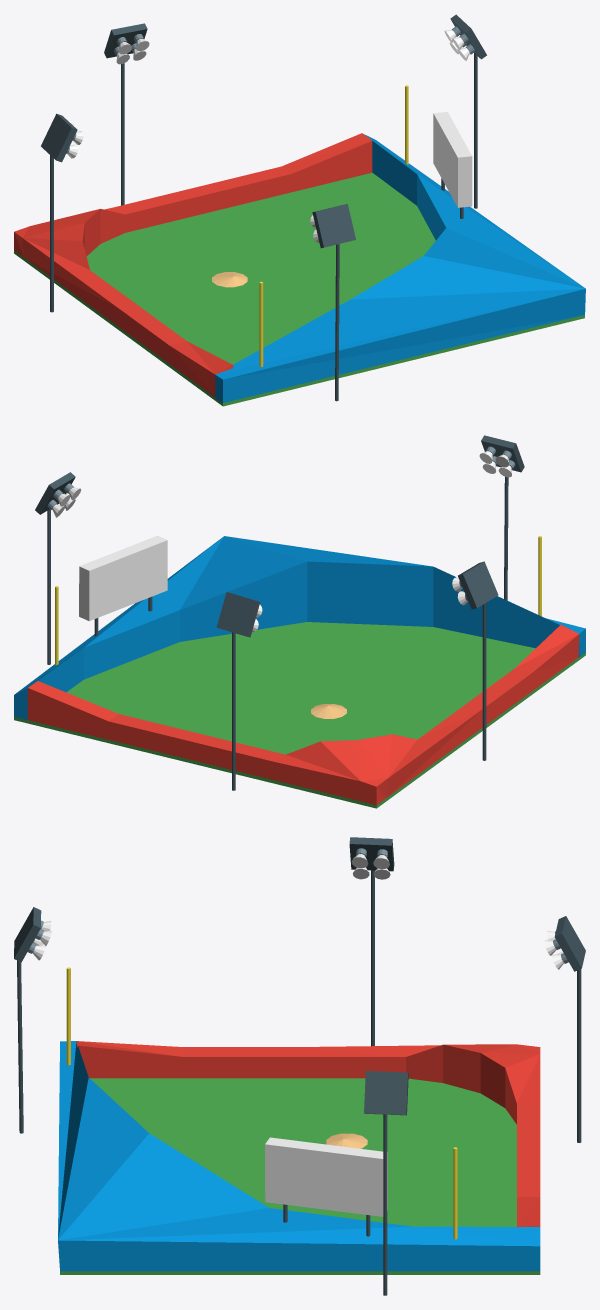
The picture shows the model from 3 angles, top to bottom: view 1: azimuth 30°, elevation 25°; view 2: azimuth 150°, elevation 25°; view 3: azimuth 270°, elevation 25°; orthographic projection. The views are drawn at different scales.
Visible parts, largest first — view 1: mesh_2054811345, mesh_866438690, mesh_1004015100, mesh_1733466658, mesh_1164968819, mesh_1068300923, mesh_1551976149, mesh_2020454888, mesh_196899424, mesh_1483382034, mesh_1992303052; view 2: mesh_2054811345, mesh_866438690, mesh_1004015100, mesh_1733466658, mesh_1551976149, mesh_1068300923, mesh_196899424, mesh_1164968819, mesh_1992303052, mesh_1483382034, mesh_812605823, mesh_2020454888; view 3: mesh_866438690, mesh_2054811345, mesh_1004015100, mesh_1733466658, mesh_812605823, mesh_1551976149, mesh_1068300923, mesh_1483382034, mesh_1992303052, mesh_2020454888, mesh_1164968819, mesh_196899424.
Part boxes in pixels (box(x1,y1,x2,y2)): mesh_2054811345: box(14, 172, 584, 406); mesh_866438690: box(215, 134, 585, 402); mesh_1004015100: box(14, 133, 372, 396); mesh_1733466658: box(433, 112, 472, 207); mesh_1164968819: box(312, 204, 355, 248); mesh_1068300923: box(41, 113, 77, 162); mesh_1551976149: box(104, 23, 147, 58); mesh_2020454888: box(335, 244, 339, 401); mesh_196899424: box(50, 155, 53, 312); mesh_1483382034: box(474, 53, 477, 208); mesh_1992303052: box(121, 63, 124, 205); mesh_2054811345: box(14, 622, 585, 808); mesh_866438690: box(14, 536, 585, 719); mesh_1004015100: box(27, 625, 579, 805); mesh_1733466658: box(79, 535, 167, 621); mesh_1551976149: box(216, 592, 260, 637); mesh_1068300923: box(458, 561, 498, 609); mesh_196899424: box(482, 603, 486, 760); mesh_1164968819: box(481, 435, 524, 472); mesh_1992303052: box(232, 632, 235, 790); mesh_1483382034: box(47, 509, 50, 664); mesh_812605823: box(35, 472, 75, 514); mesh_2020454888: box(504, 476, 508, 600); mesh_866438690: box(58, 1041, 540, 1271); mesh_2054811345: box(60, 1078, 540, 1274); mesh_1004015100: box(76, 1041, 540, 1227); mesh_1733466658: box(265, 1137, 387, 1216); mesh_812605823: box(364, 1071, 408, 1115); mesh_1551976149: box(554, 916, 585, 971); mesh_1068300923: box(349, 837, 394, 871); mesh_1483382034: box(383, 1114, 387, 1295); mesh_1992303052: box(577, 969, 581, 1142); mesh_2020454888: box(17, 960, 23, 1133); mesh_1164968819: box(14, 907, 41, 962); mesh_196899424: box(371, 870, 374, 1046).
Bounding box in the file's own units: 274 × 118 × 269.
